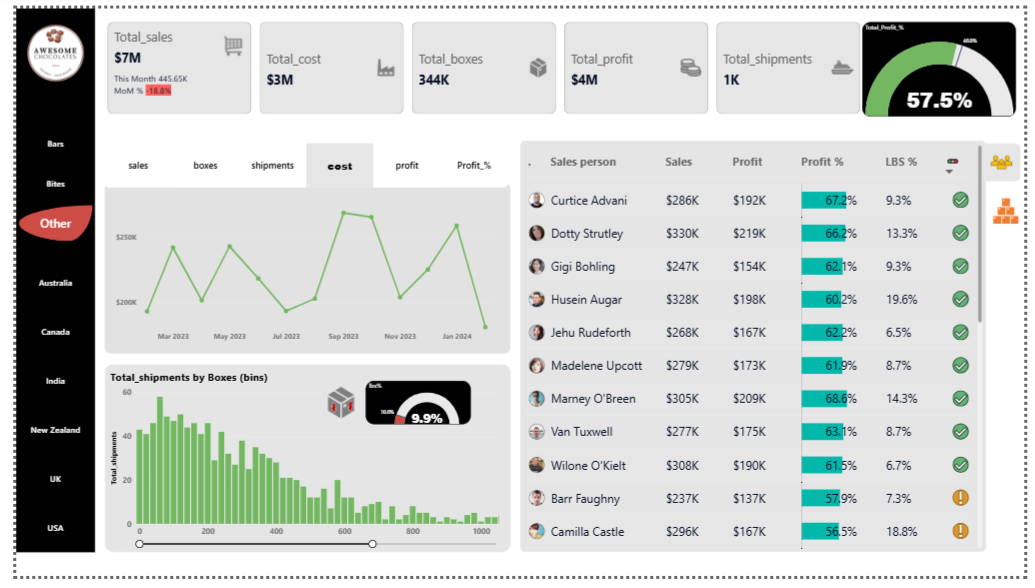

What the dashboard file says about the page in this screenshot:
{"tool":"powerbi","page":{"name":"Sales Report","canvas":[1920,1080],"ordinal":1},"visuals":[{"type":"shape","box":[0,0,150,1035],"z":0},{"type":"cardVisual","fields":{"Data":["_measures.Total_sales","_measures.Total_cost","_measures.Total_boxes","_measures.Total_profit","_measures.Total_shipments"]},"box":[167.5,25,1445,180],"z":1000},{"type":"gauge","fields":{"Y":["_measures.Total_Profit_%"]},"box":[1612.5,25,292.5,180],"z":2000},{"type":"image","box":[0,25,150,117.5],"z":3000},{"type":"lineChart","fields":{"Y":["_measures.Total_boxes"],"Category":["calendar.Start of Month"]},"box":[167.5,342.5,772.5,315],"z":4000},{"type":"advancedSlicerVisual","fields":{"Values":["Measure Selector.Measure Selector"]},"box":[167.5,252.5,772.5,112.5],"z":5000},{"type":"clusteredColumnChart","fields":{"Category":["shipments.Boxes (bins)"],"Y":["_measures.Total_shipments"]},"box":[167.5,677.5,772.5,357.5],"z":6000},{"type":"gauge","fields":{"Y":["_measures.lbs%"]},"box":[665,707.5,200,82.5],"z":7000},{"type":"image","box":[570,707.5,95,82.5],"z":8000},{"type":"tableEx","title":"People Details","fields":{"Values":["people.Picture","people.Sales person","_measures.Total_sales","_measures.Total_profit","_measures.Total_Profit_%","_measures.lbs%","_measures.Profit Traget Idicator"]},"box":[960,252.5,887.5,782.5],"z":9000},{"type":"advancedSlicerVisual","fields":{"Values":["products.Category"]},"box":[0,217.5,150,232.5],"z":11000},{"type":"advancedSlicerVisual","fields":{"Values":["locations.Geo"]},"box":[0,475,150,560],"z":12000},{"type":"image","title":"Selected Team","box":[1830,252.5,90,82.5],"z":13000},{"type":"image","title":"unSelect Product ","box":[1847.5,342.5,72.5,85],"z":16000}]}

Visuals, with their boxes in screenshot pixels (x1, y1, x2, y2), scaled from the page's 1920x1080 canvas onto the 1035x588 screenshot:
shape: rect(0, 0, 81, 564)
cardVisual - _measures.Total_sales x _measures.Total_cost: rect(90, 14, 869, 112)
gauge - _measures.Total_Profit_%: rect(869, 14, 1027, 112)
image: rect(0, 14, 81, 78)
lineChart - _measures.Total_boxes x calendar.Start of Month: rect(90, 186, 507, 358)
advancedSlicerVisual - Measure Selector.Measure Selector: rect(90, 137, 507, 199)
clusteredColumnChart - shipments.Boxes (bins) x _measures.Total_shipments: rect(90, 369, 507, 564)
gauge - _measures.lbs%: rect(358, 385, 466, 430)
image: rect(307, 385, 358, 430)
"People Details" tableEx: rect(518, 137, 996, 564)
advancedSlicerVisual - products.Category: rect(0, 118, 81, 245)
advancedSlicerVisual - locations.Geo: rect(0, 259, 81, 564)
"Selected Team" image: rect(986, 137, 1034, 182)
"unSelect Product " image: rect(996, 186, 1034, 233)
